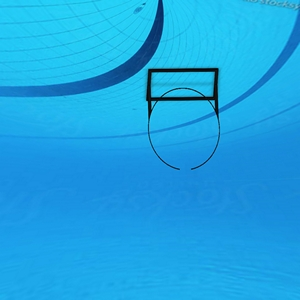circle: (145, 68, 225, 174)
